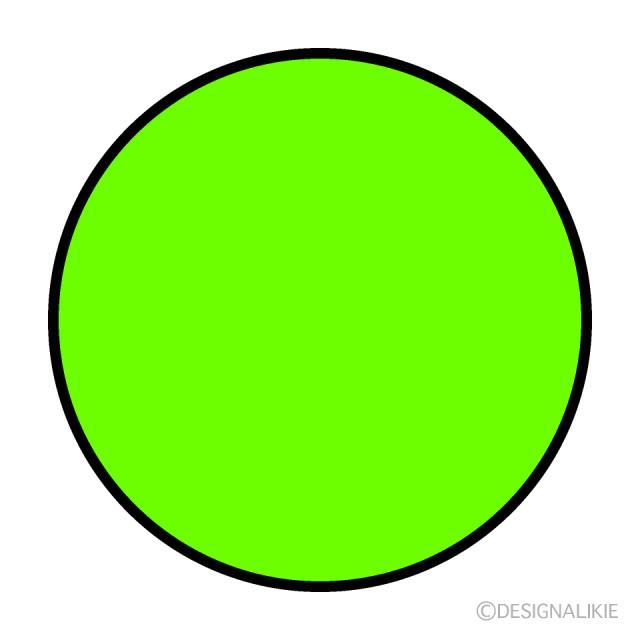Circle: (46, 47, 593, 595)
